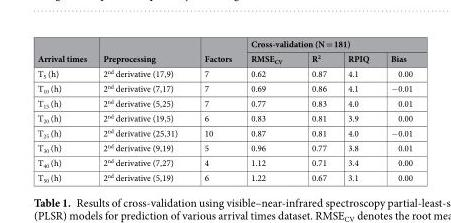table: (36, 37, 412, 183)
table column: (94, 37, 190, 183), (36, 37, 94, 183), (240, 37, 296, 183), (190, 37, 240, 183), (336, 37, 379, 183), (296, 37, 336, 183), (379, 37, 412, 183)
table column header: (36, 37, 412, 66)
table row: (36, 50, 412, 66), (36, 80, 412, 95), (36, 95, 412, 110), (36, 110, 412, 125), (36, 125, 412, 140), (36, 140, 412, 155), (36, 155, 412, 170), (36, 66, 412, 80), (36, 37, 412, 50), (36, 170, 412, 183)
table spanning cell: (94, 37, 190, 66), (240, 37, 412, 50), (36, 37, 94, 66), (190, 37, 240, 66)
